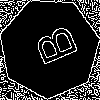B: (24, 23, 79, 71)
